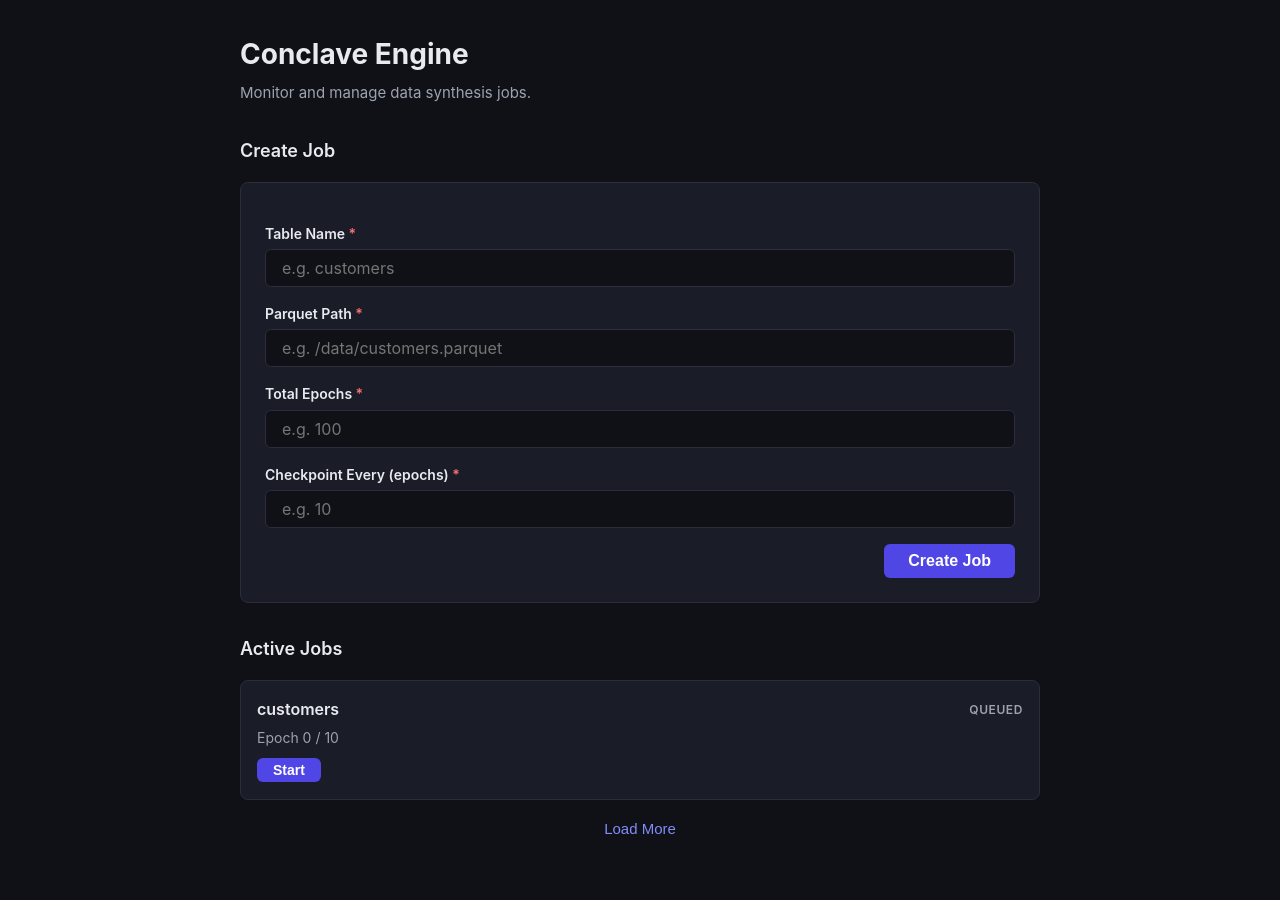
Test: Dashboard — RFC 7807 error handling › renders error toast when loadJobs with cursor fails and resets isLoadingMore
The image size is (1280, 900).
Click the button "Load More": x=640, y=828 left=588, top=816, right=692, bottom=840
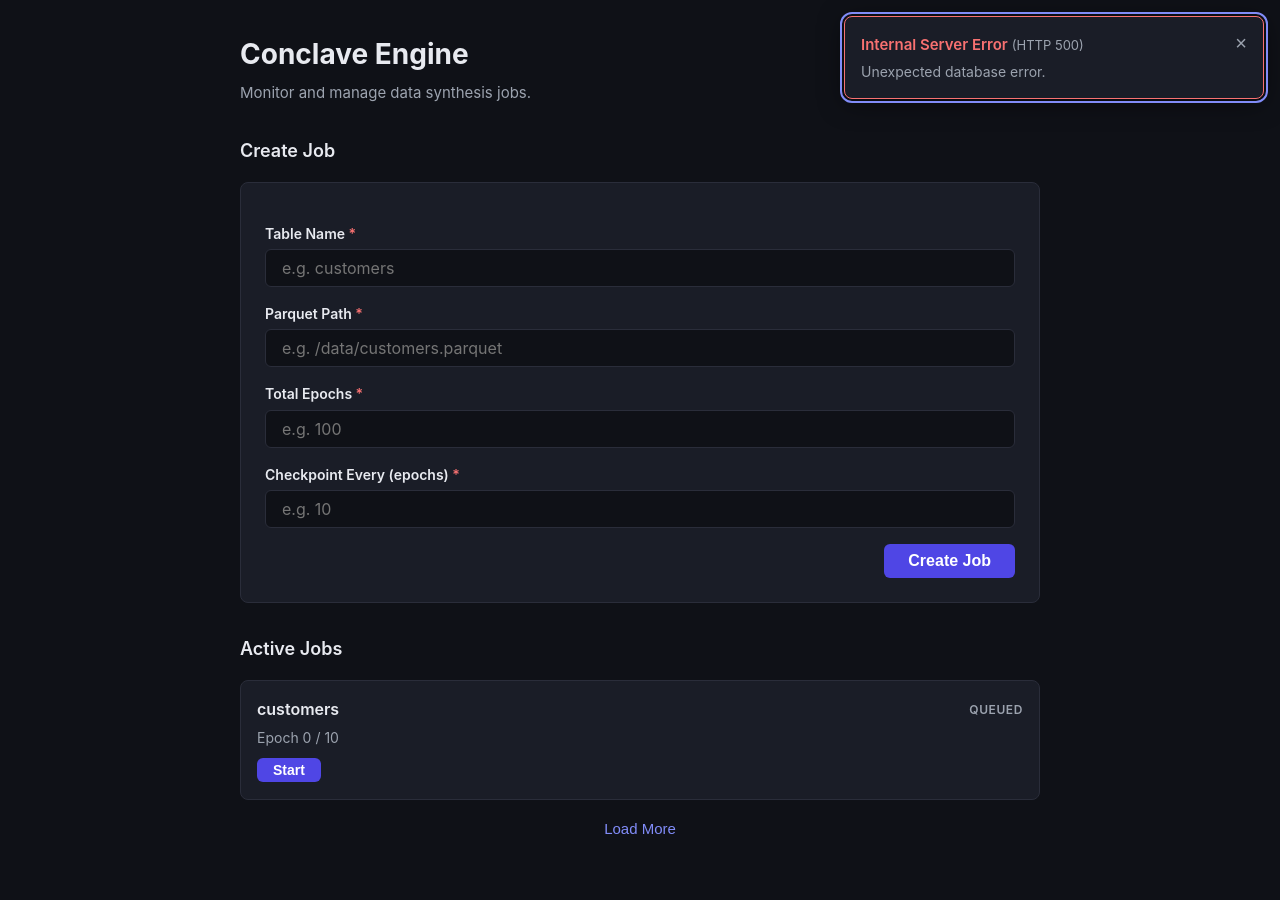
Now the dialog is shown, box left=844, top=16, right=1264, bottom=99
Now the text "Internal Server Error (HTTP 500)" is shown, box left=861, top=35, right=1084, bottom=54
